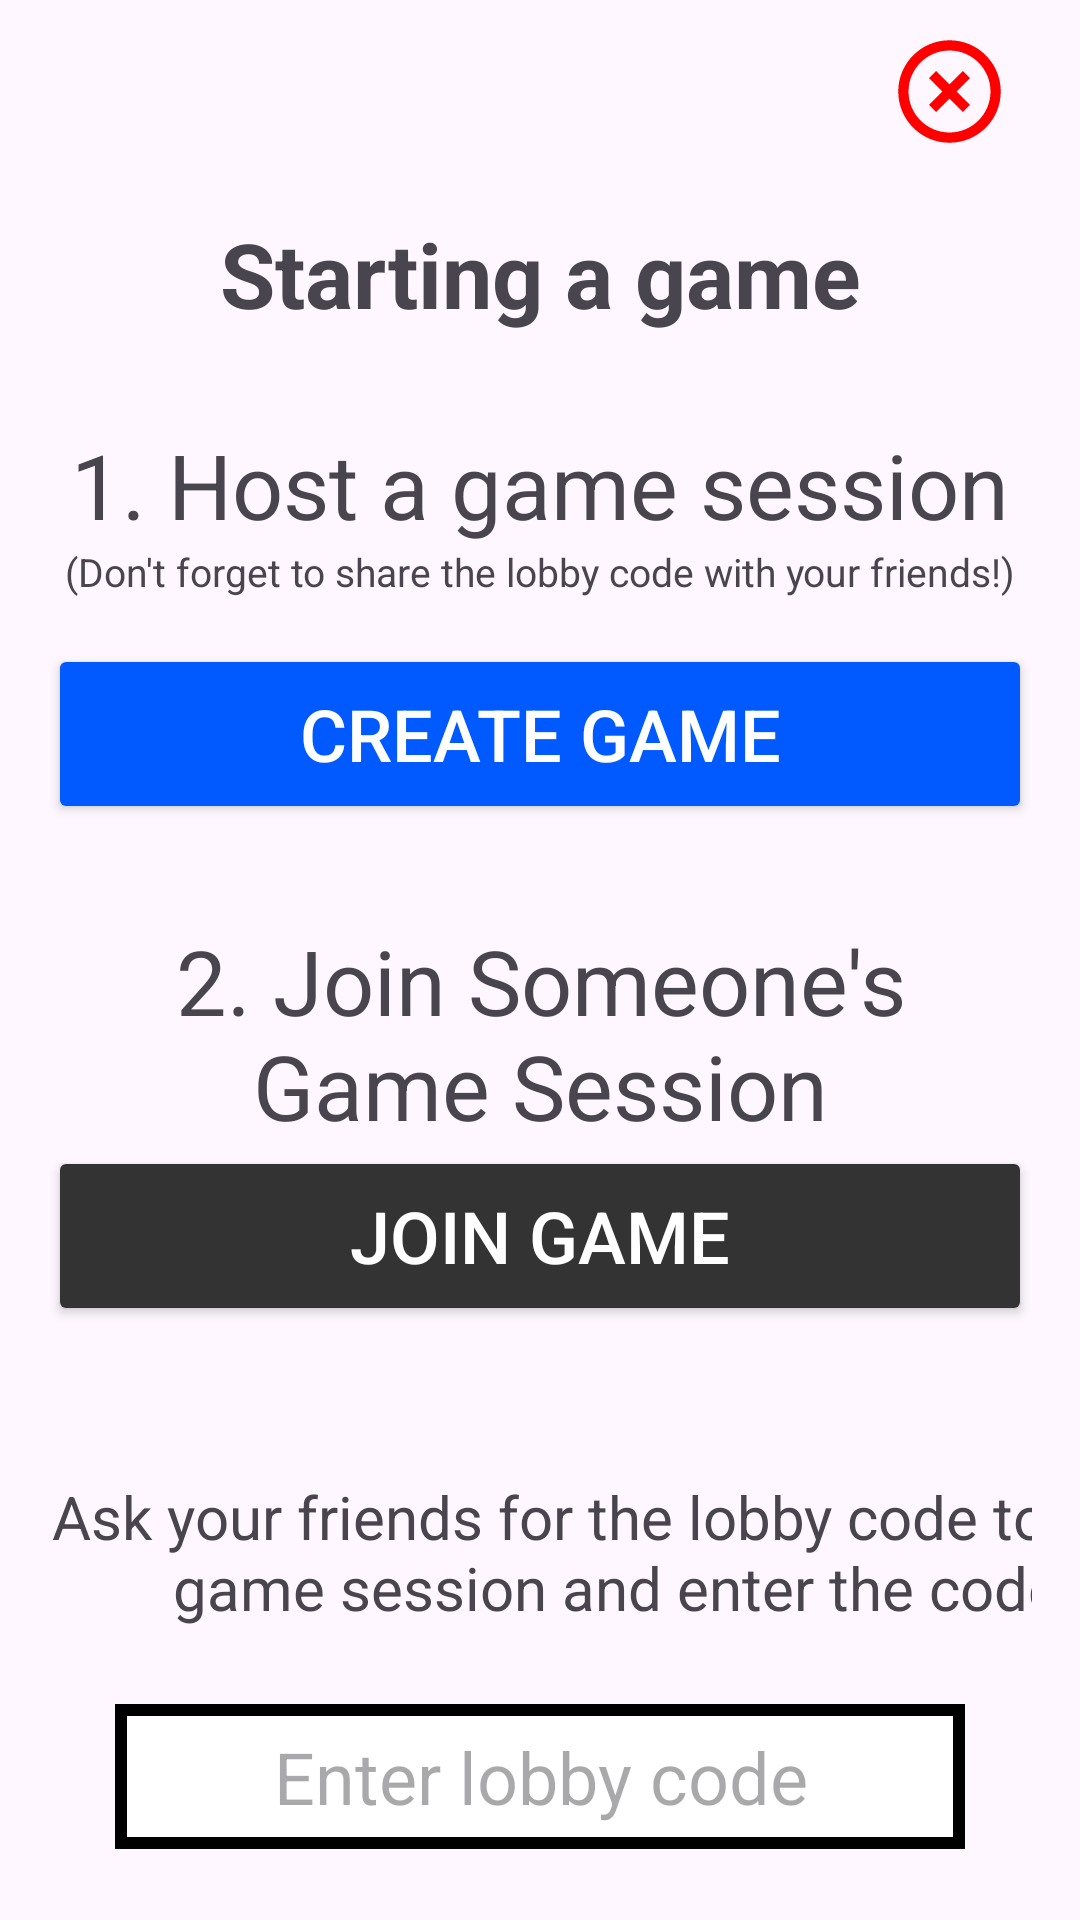

Screen size 1080 x 1920. Icon name, then its box in pixels as rect(x1, y1, x2, y2):
eliminated: rect(898, 40, 1001, 143)
